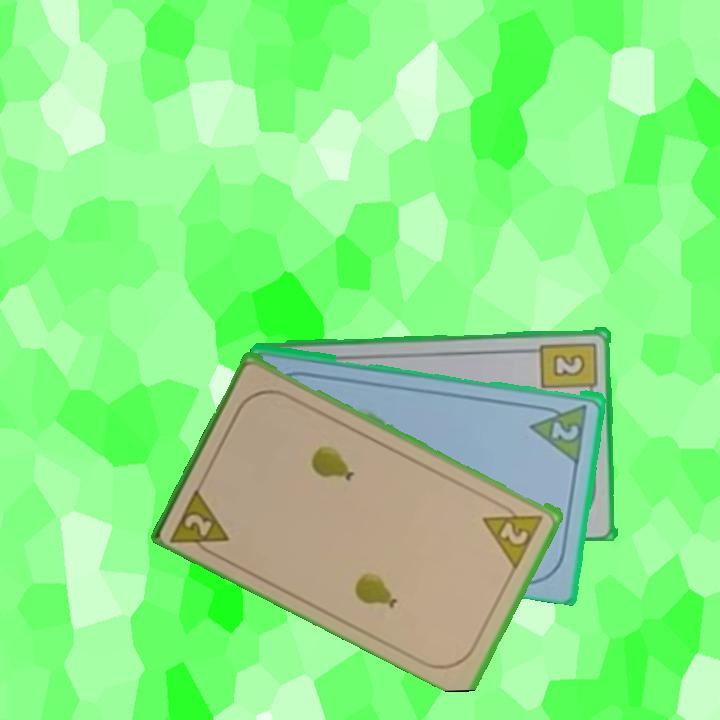2b: (538, 338, 601, 399)
2p: (168, 482, 233, 561), (479, 497, 547, 569), (548, 416, 582, 443)
